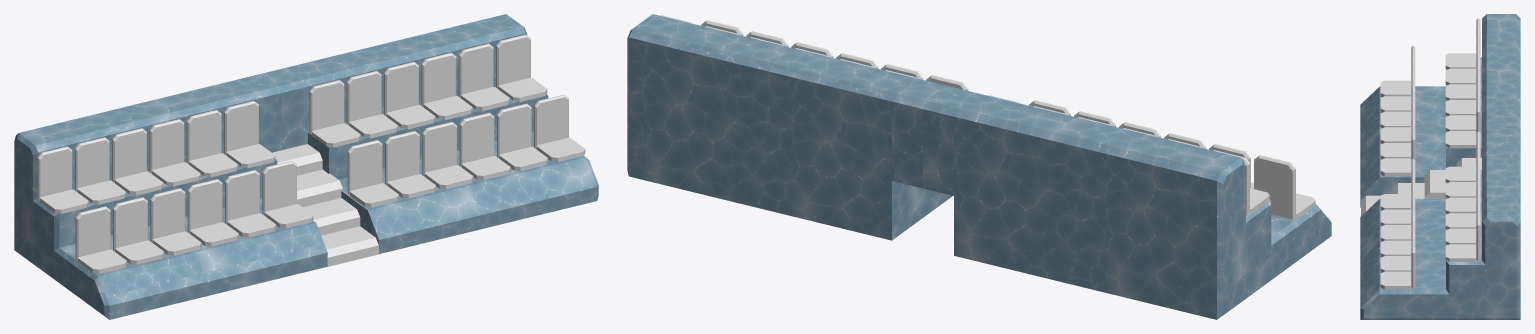
Rendered from Stands.fbx.
The picture shows the model from 3 angles, left to right: view 1: azimuth 30°, elevation 25°; view 2: azimuth 150°, elevation 25°; view 3: azimuth 270°, elevation 25°; orthographic projection. The views are drawn at different scales.
Visible parts, largest first — view 1: Cube.034; view 2: Cube.034; view 3: Cube.034.
Boxes of the visible parts, x1=… form: Cube.034: x1=14, y1=14, x2=598, y2=319; Cube.034: x1=627, y1=14, x2=1331, y2=319; Cube.034: x1=1360, y1=14, x2=1520, y2=319.
Bounding box in the file's own units: 12.44 × 4.09 × 2.9.
